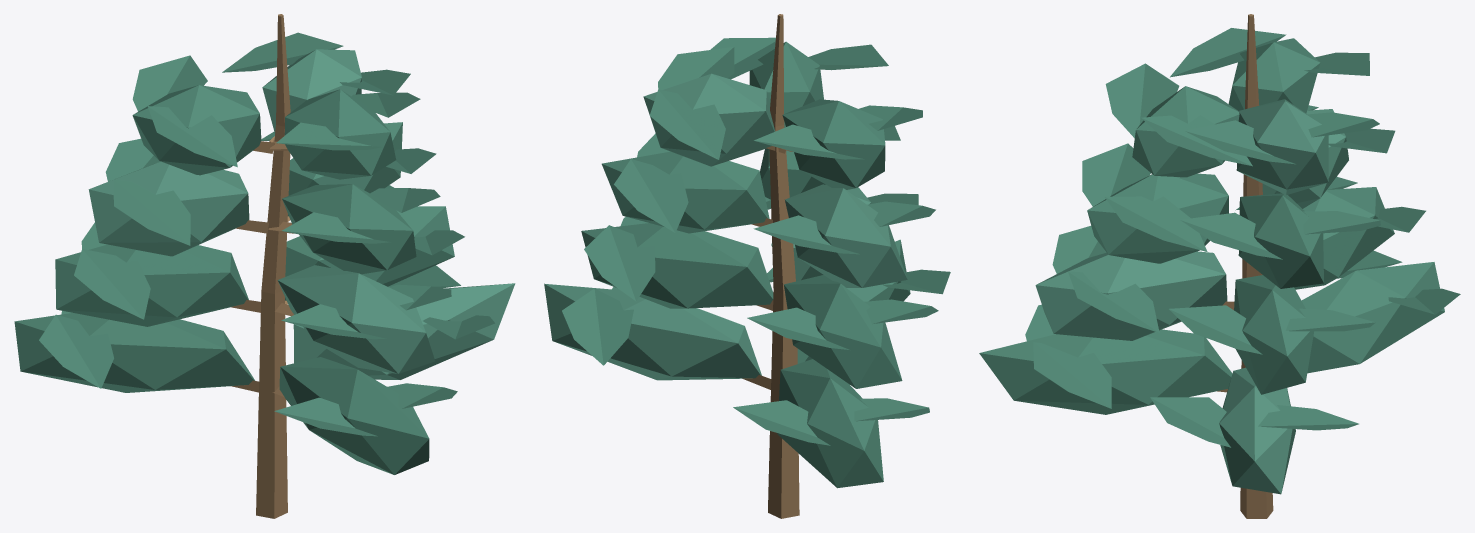
File: conifer_sapling_01.glb
3 renders of one model, left to right at view 1: azimuth 30°, elevation 25°; view 2: azimuth 150°, elevation 25°; view 3: azimuth 270°, elevation 25°, orthographic.
Visible parts, largest first — view 1: Conifer_sapling_800_01; view 2: Conifer_sapling_800_01; view 3: Conifer_sapling_800_01.
Part boxes in pixels (<box>): Conifer_sapling_800_01: <box>14,14,515,518</box>; Conifer_sapling_800_01: <box>544,14,950,518</box>; Conifer_sapling_800_01: <box>979,14,1460,518</box>.
Bounding box in the file's own units: 1.28 × 1.44 × 1.25.
